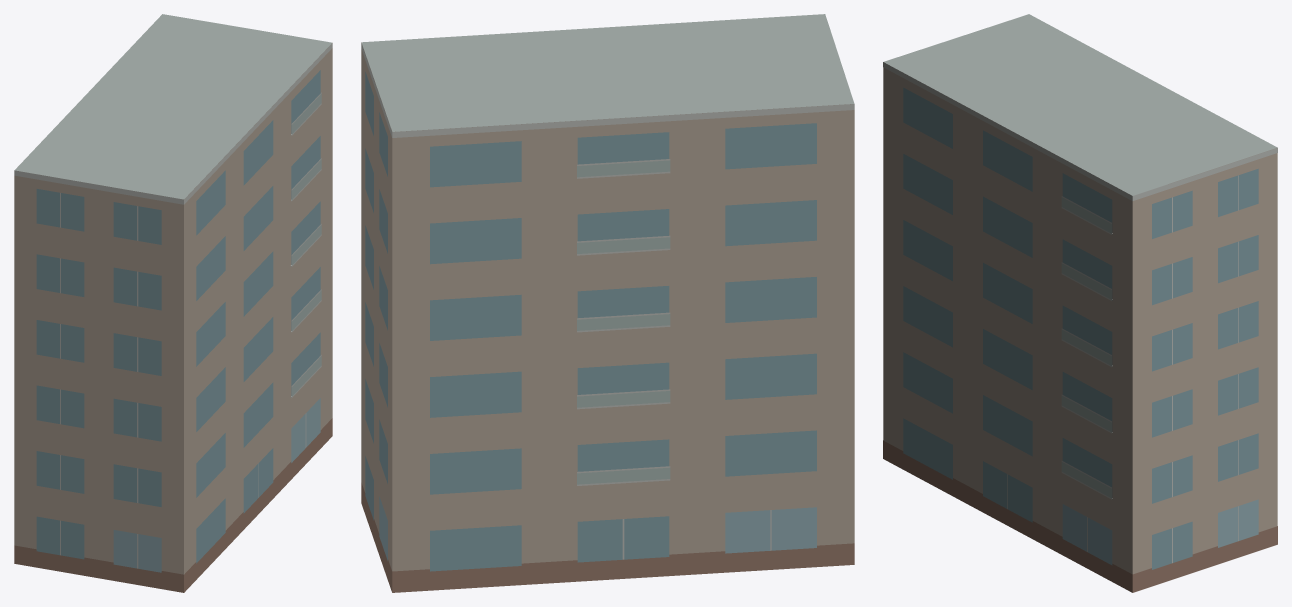
File: survey-upis-32742259.glb
3 views of the same model, side by side, from view 1: azimuth 30°, elevation 25°; view 2: azimuth 150°, elevation 25°; view 3: azimuth 270°, elevation 25° (orthographic). The views are drawn at different scales.
Parts seen in each view (by area): view 1: survey-upis-32742259.tmp; view 2: survey-upis-32742259.tmp; view 3: survey-upis-32742259.tmp.
Part boxes in pixels (bbox=[...]): survey-upis-32742259.tmp: bbox=[14, 14, 332, 592]; survey-upis-32742259.tmp: bbox=[361, 14, 854, 592]; survey-upis-32742259.tmp: bbox=[883, 14, 1277, 592].
Bounding box in the file's own units: 18 × 18.3 × 16.49.
